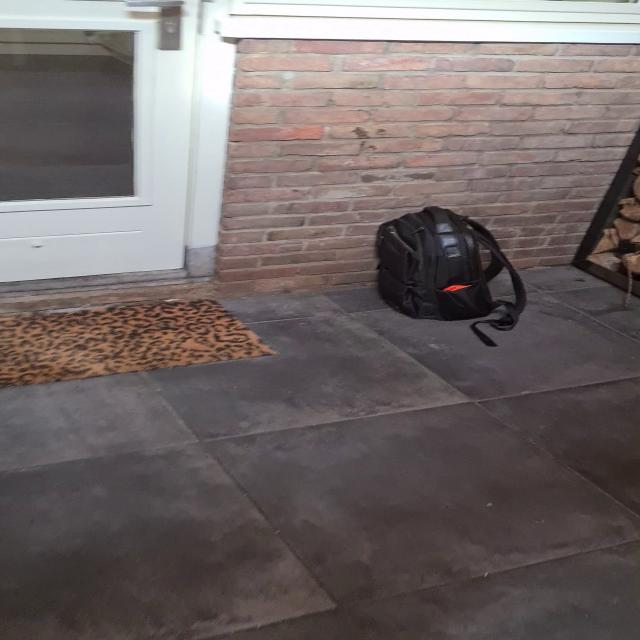backpack: (368, 203, 526, 327)
